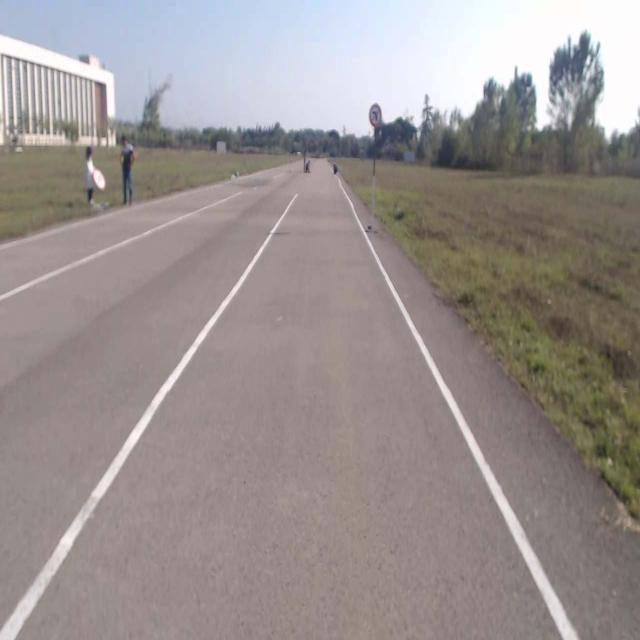soladonulmez: (369, 103, 381, 125)
